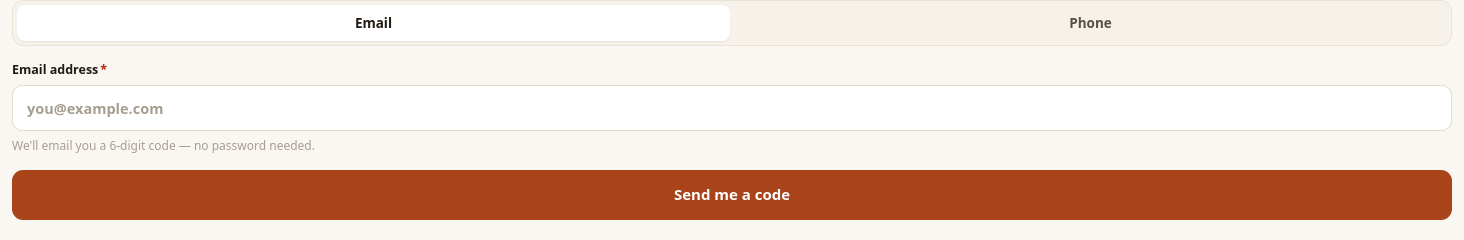
IdentifierForm › blocks submit and shows a specific error for a malformed email
In the field labelled "Email address*": [732, 108] box [12, 85, 1452, 131], type "not-an-email"
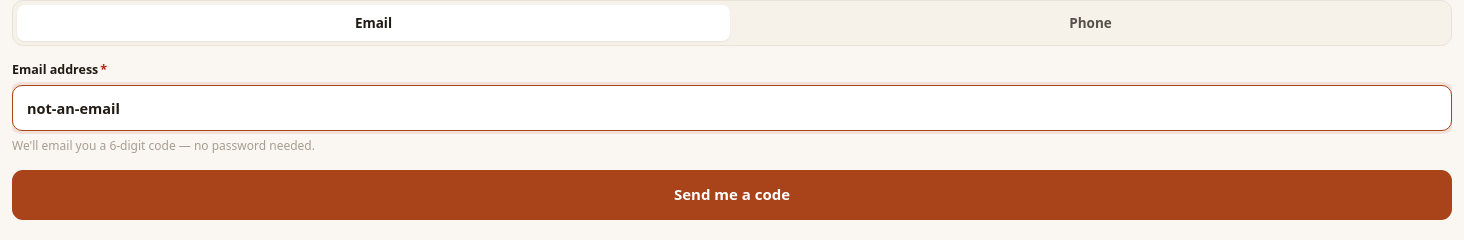
Click the button "Send me a code": [732, 195] box [12, 170, 1452, 220]
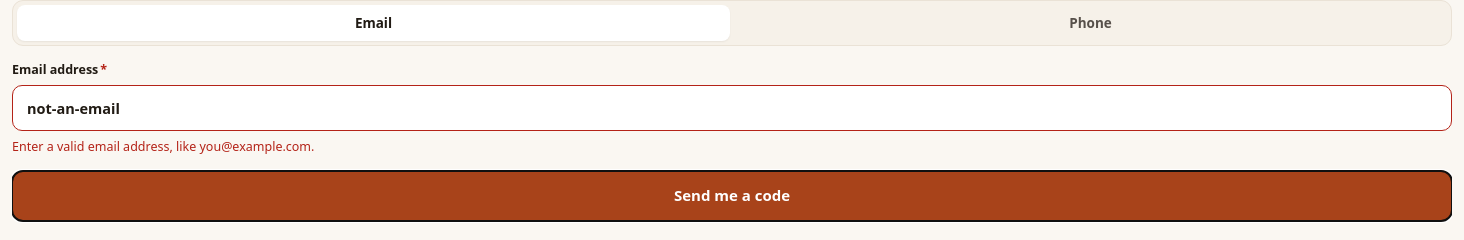
Now the message reads "Enter a valid email address, like you@example.com.", box [12, 138, 314, 155]
